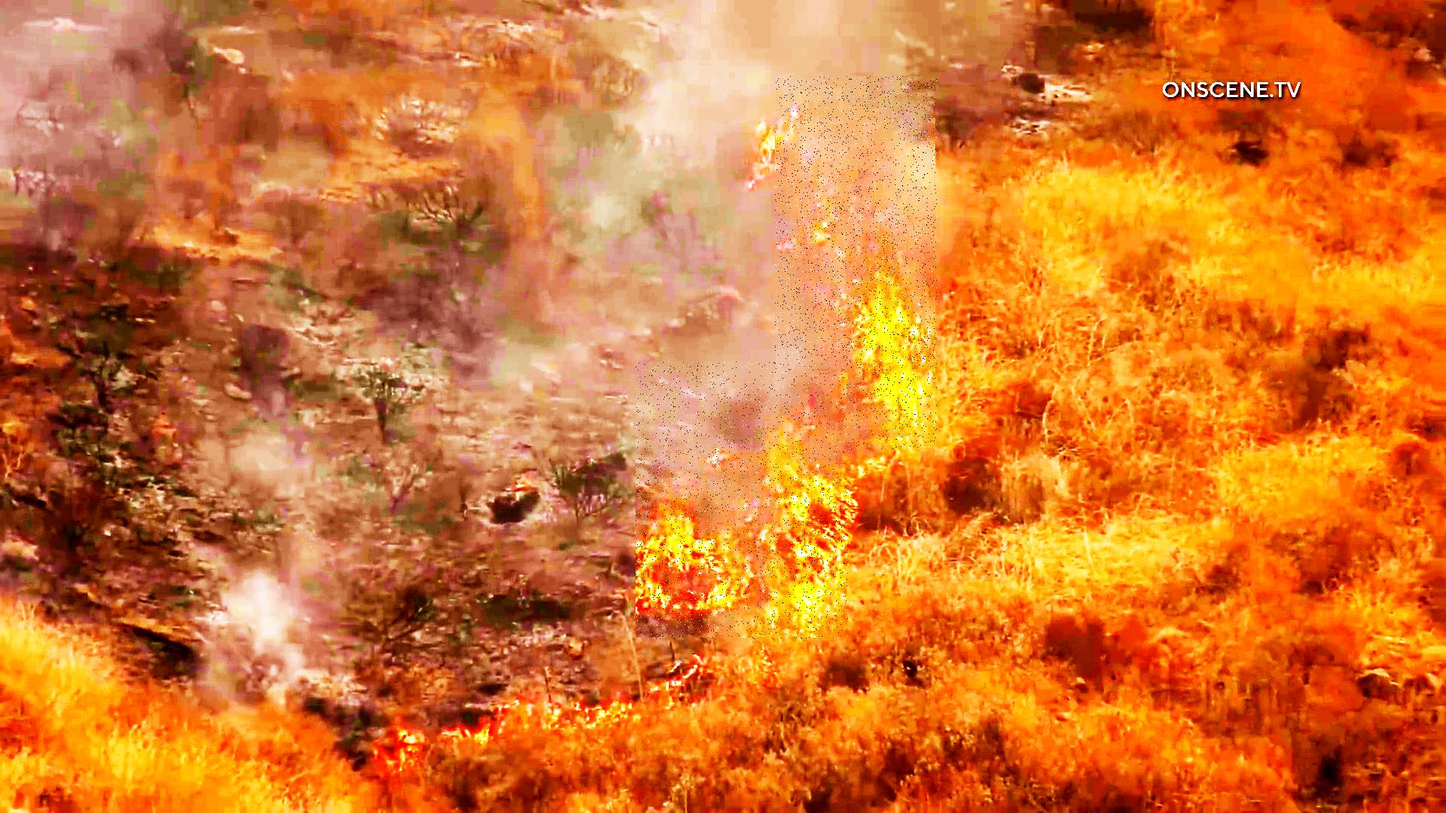fire: (775, 77, 937, 450), (636, 362, 850, 640)
